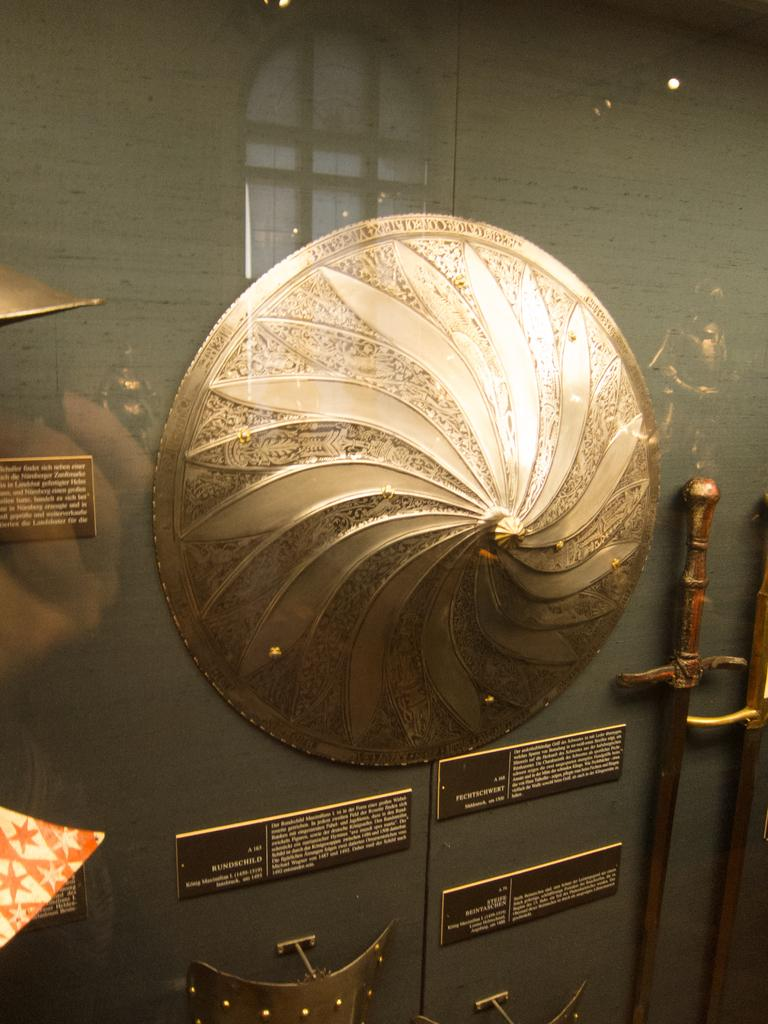Sword: (615, 477, 748, 1023), (685, 492, 767, 1023)
